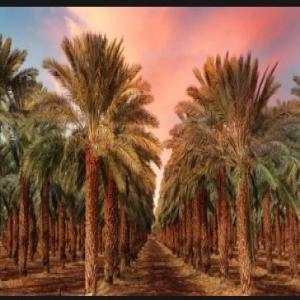palm tree: (162, 49, 299, 292), (40, 30, 162, 294)
